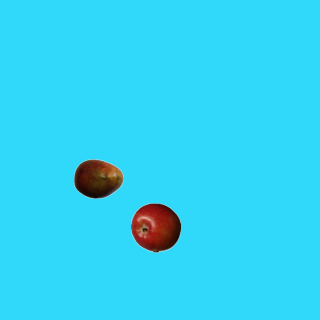Apple Braeburn: (130, 202, 180, 252)
Mango Red: (73, 153, 123, 203)
